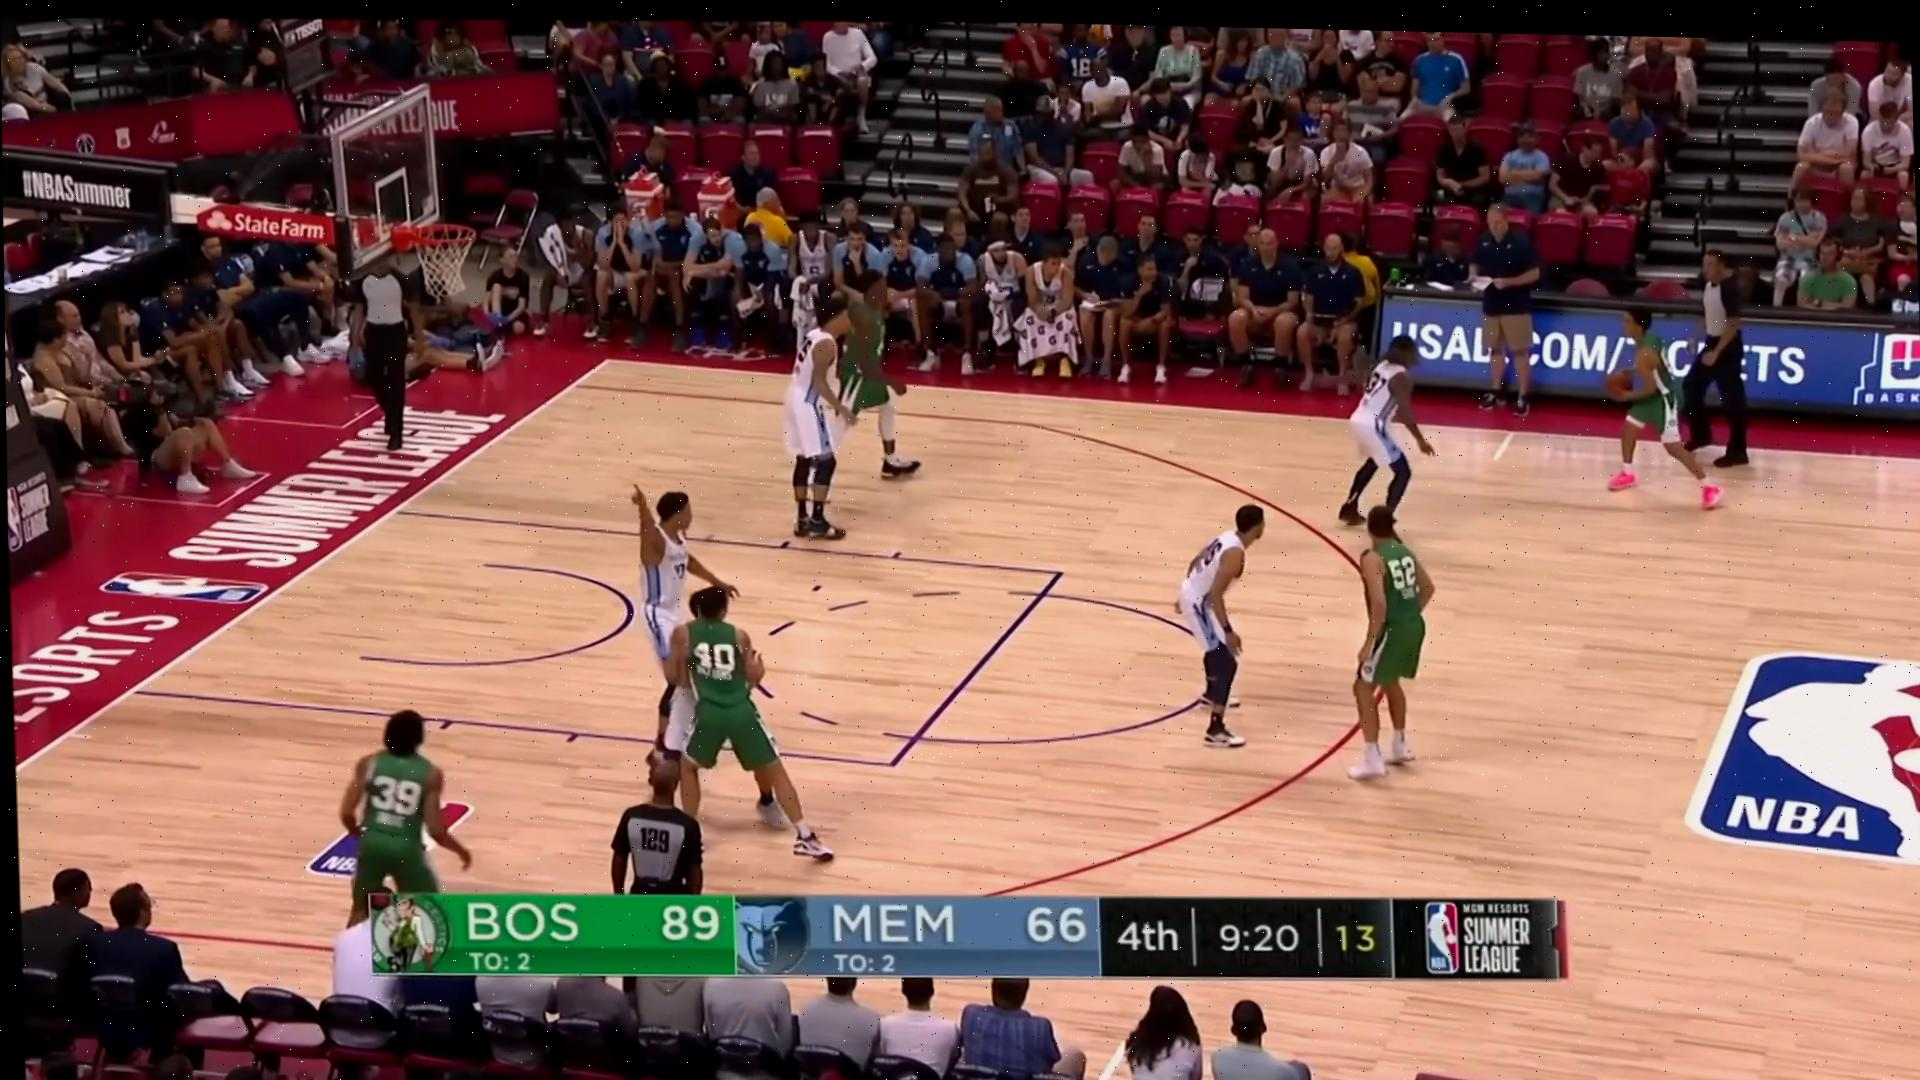foul: (605, 563, 844, 857)
